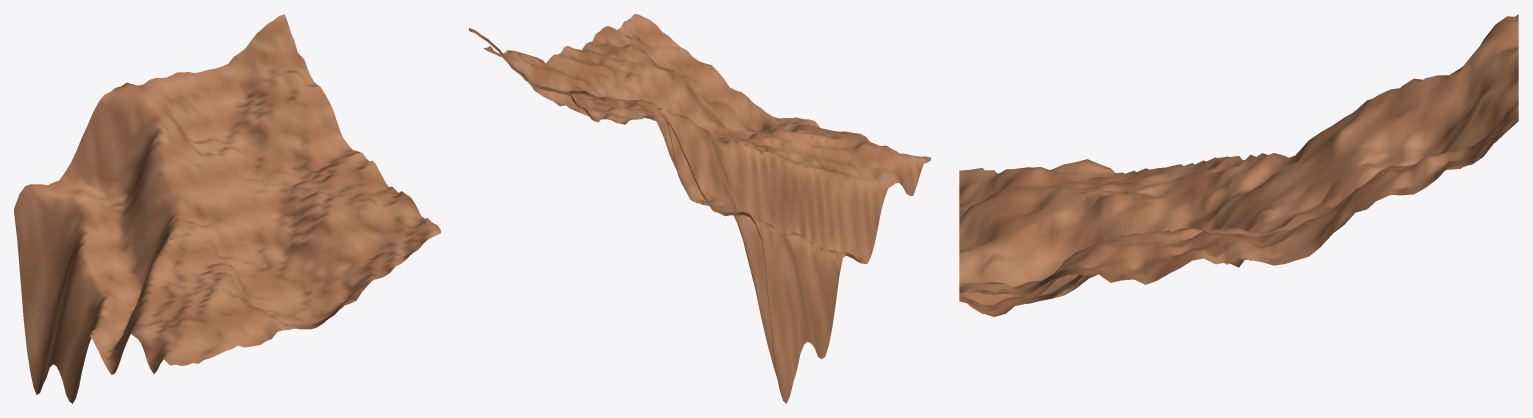
The model's file is terrain-076.glb.
The picture shows the model from 3 angles, left to right: view 1: azimuth 30°, elevation 25°; view 2: azimuth 150°, elevation 25°; view 3: azimuth 270°, elevation 25°; orthographic projection. The views are drawn at different scales.
Parts seen in each view (by area): view 1: terrain-076; view 2: terrain-076; view 3: terrain-076.
Boxes of the visible parts, x1,y1,x2,y2 form: terrain-076: (14,14,440,403); terrain-076: (469,14,930,403); terrain-076: (959,14,1518,316).
Size of the model in its own units: 384 by 405 by 384.
